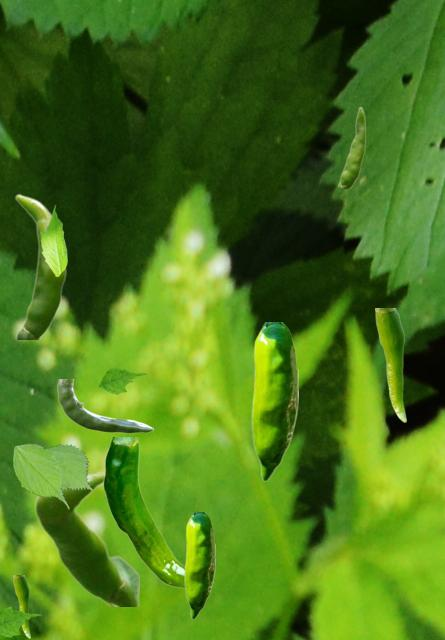green_chili: (34, 472, 138, 605), (103, 437, 183, 588), (14, 193, 66, 338), (251, 322, 297, 480), (57, 379, 152, 432), (375, 308, 405, 421), (184, 512, 214, 618), (338, 106, 365, 187), (13, 575, 29, 637)
